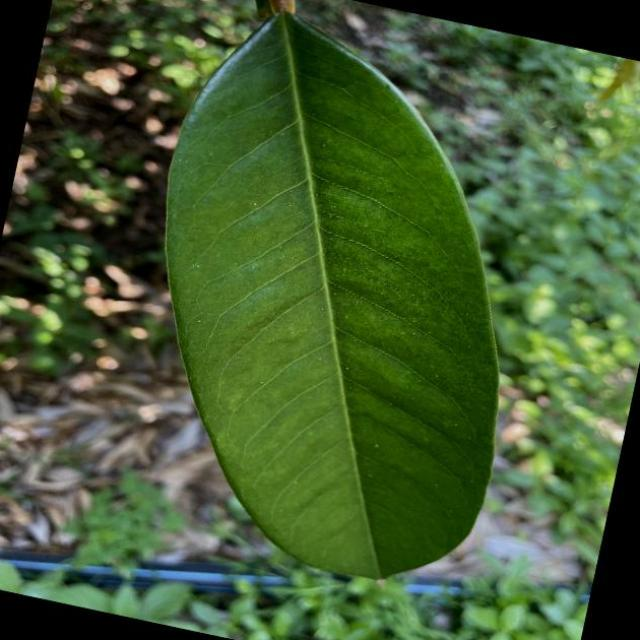No Disease: (79, 0, 592, 618)
